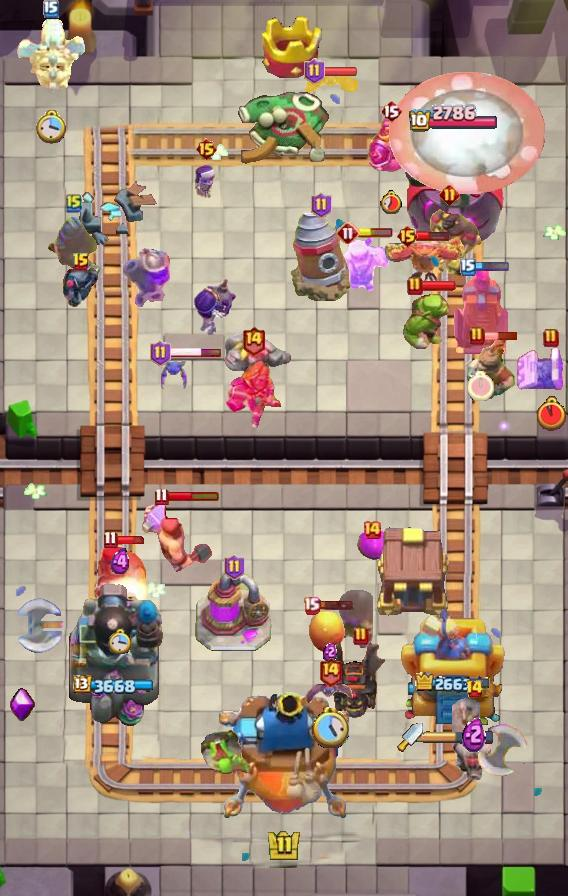axe: (476, 723, 544, 777), (15, 597, 71, 655)
bar: (167, 490, 220, 502), (168, 347, 222, 358), (318, 599, 355, 611), (421, 280, 457, 292), (474, 261, 510, 272), (416, 230, 449, 242), (322, 66, 358, 77), (357, 228, 393, 238), (483, 331, 518, 341), (115, 535, 147, 545)
bar-level: (318, 656, 343, 687), (241, 325, 266, 356), (336, 221, 360, 245), (396, 224, 419, 248), (195, 137, 218, 161), (224, 554, 245, 580), (150, 340, 171, 366), (311, 192, 332, 218), (304, 58, 325, 84), (380, 99, 402, 123), (439, 184, 460, 205), (362, 520, 382, 540), (465, 679, 484, 699), (72, 252, 90, 272), (303, 596, 320, 615), (353, 626, 369, 646), (543, 328, 559, 348), (469, 326, 485, 346), (407, 276, 423, 296), (66, 193, 82, 213), (460, 258, 476, 276), (43, 0, 59, 18), (103, 530, 118, 549), (154, 487, 169, 506)
barbarian-evolution: (336, 236, 391, 293)
bat: (305, 682, 355, 706), (304, 74, 358, 96)
bat-evolution: (158, 354, 190, 396)
bomber-evolution: (194, 270, 238, 336)
cannoneer-tower: (63, 579, 165, 731), (400, 132, 507, 256)
clock: (312, 707, 349, 748), (36, 110, 67, 145), (537, 396, 566, 431), (468, 371, 494, 401), (108, 628, 132, 654), (380, 190, 403, 214)
dagger-duchess-tower: (401, 601, 505, 731)
dagger-duchess-tower-bar: (423, 730, 495, 744)
elixir: (462, 715, 486, 752), (110, 548, 131, 576), (323, 642, 337, 662)
elixir-golem-small: (356, 530, 388, 560)
evolution-symbol: (10, 687, 36, 721)
goblin-ball: (200, 729, 254, 777)
goblin-brawler: (399, 291, 455, 349)
golemite: (222, 331, 294, 403)
hunter: (91, 541, 149, 605)
king-tower: (219, 692, 349, 826)
knight-evolution: (367, 115, 416, 173)
lumberjack: (138, 495, 212, 577)
mini-pekka: (60, 264, 102, 308)
musketeer: (46, 216, 102, 282), (123, 247, 170, 307), (337, 588, 373, 648)
phoenix-egg: (307, 606, 345, 654)
ram-rider: (452, 697, 496, 783)
royal-recruit: (467, 336, 515, 402)
skeleton-evolution: (193, 164, 219, 200)
tesla: (516, 343, 568, 393)
tower-bar: (408, 104, 499, 134), (415, 672, 492, 695), (73, 675, 156, 696)
valkyrie-evolution: (224, 357, 282, 431)
